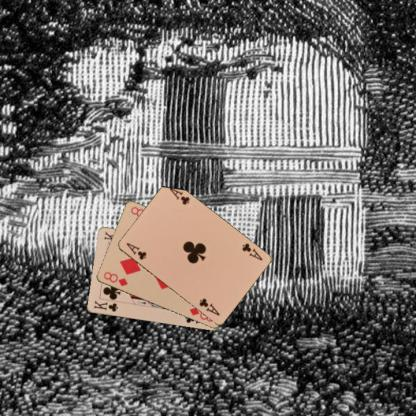8d: (101, 269, 129, 288)
Ac: (239, 240, 264, 262), (124, 240, 148, 261)
Kc: (91, 298, 119, 313)
